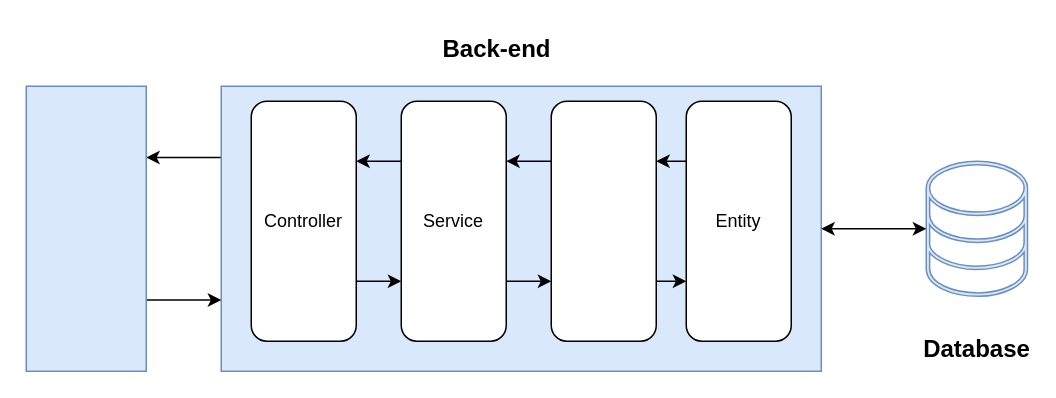
Image size: 1056x398. Some labels were removed from this diagram. Each missing label, with the centre of its shape:
"Front-end" goes at (85,228).
"Mapper" goes at (603,220).
